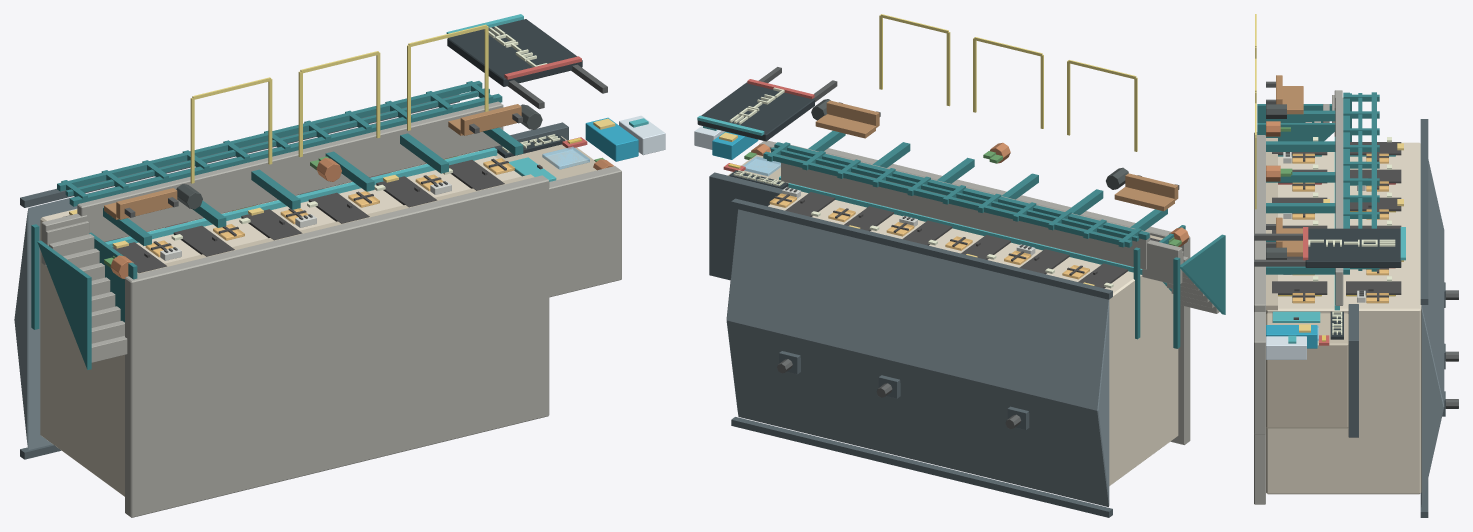
The model's file is motel.fbx.
The picture shows the model from 3 angles, left to right: view 1: azimuth 30°, elevation 25°; view 2: azimuth 150°, elevation 25°; view 3: azimuth 270°, elevation 25°; orthographic projection. The views are drawn at different scales.
Visible parts, largest first — view 1: MainBuilding_Foundation, MainBuilding, Balcony_Walkway, OfficeBlock_Foundation, Roof, Sign_MOTEL, Balcony_Railing, Balcony_Walkway_FrontEdge, Stairs_Left_SideSupport_A, MainBuilding_FloorDivider, Balcony_Railing_MiddleRail, OfficeBlock (+16 smaller); view 2: Roof, MainBuilding, Balcony_Walkway, Roof_FrontTrim, Roof_BackTrim, MainBuilding_Foundation, OfficeBlock_Roof, Sign_MOTEL, Balcony_Railing, Balcony_Walkway_FrontEdge, Stairs_Left_SideSupport_A, Balcony_Railing_MiddleRail (+15 smaller); view 3: MainBuilding, OfficeBlock, Roof, Sign_MOTEL, MainBuilding_Foundation, Roof_FrontTrim, Balcony_Walkway, OfficeBlock_Foundation, OfficeBlock_Roof, Stairs_Left_SideSupport_B, MainBuilding_FirstFloor_MassiveBand, IceMachine_Body (+26 smaller).
Part boxes in pixels (box(x1,y1,x2,y2)): MainBuilding_Foundation: box(125, 175, 549, 517); MainBuilding: box(40, 151, 521, 496); Balcony_Walkway: box(77, 101, 503, 241); OfficeBlock_Foundation: box(549, 166, 621, 297); Roof: box(14, 104, 455, 449); Sign_MOTEL: box(447, 19, 582, 86); Balcony_Railing: box(57, 81, 482, 191); Balcony_Walkway_FrontEdge: box(69, 93, 502, 206); Stairs_Left_SideSupport_A: box(37, 240, 91, 369); MainBuilding_FloorDivider: box(105, 147, 497, 247); Balcony_Railing_MiddleRail: box(65, 88, 489, 196); OfficeBlock: box(494, 136, 596, 180); Roof: box(726, 209, 1109, 506); MainBuilding: box(768, 191, 1178, 485); Balcony_Walkway: box(781, 144, 1150, 269); Roof_FrontTrim: box(731, 198, 1112, 299); Roof_BackTrim: box(731, 417, 1112, 517); MainBuilding_Foundation: box(824, 148, 1190, 444); OfficeBlock_Roof: box(709, 172, 783, 280); Sign_MOTEL: box(697, 82, 814, 141); Balcony_Railing: box(763, 151, 1132, 247); Balcony_Walkway_FrontEdge: box(774, 142, 1149, 239); Stairs_Left_SideSupport_A: box(1180, 234, 1225, 314); Balcony_Railing_MiddleRail: box(771, 147, 1138, 241); MainBuilding: box(1266, 142, 1421, 494); OfficeBlock: box(1266, 313, 1348, 428); Roof: box(1421, 159, 1444, 508); Sign_MOTEL: box(1305, 228, 1401, 267); MainBuilding_Foundation: box(1254, 132, 1265, 504); Roof_FrontTrim: box(1420, 119, 1428, 304); Balcony_Walkway: box(1335, 97, 1343, 305); OfficeBlock_Foundation: box(1254, 312, 1265, 434); OfficeBlock_Roof: box(1348, 304, 1358, 437); Stairs_Left_SideSupport_B: box(1257, 123, 1335, 141); MainBuilding_FirstFloor_MassiveBand: box(1266, 138, 1277, 310); IceMachine_Body: box(1266, 336, 1306, 359).
Size of the model in its own units: 864 by 590 by 310.
